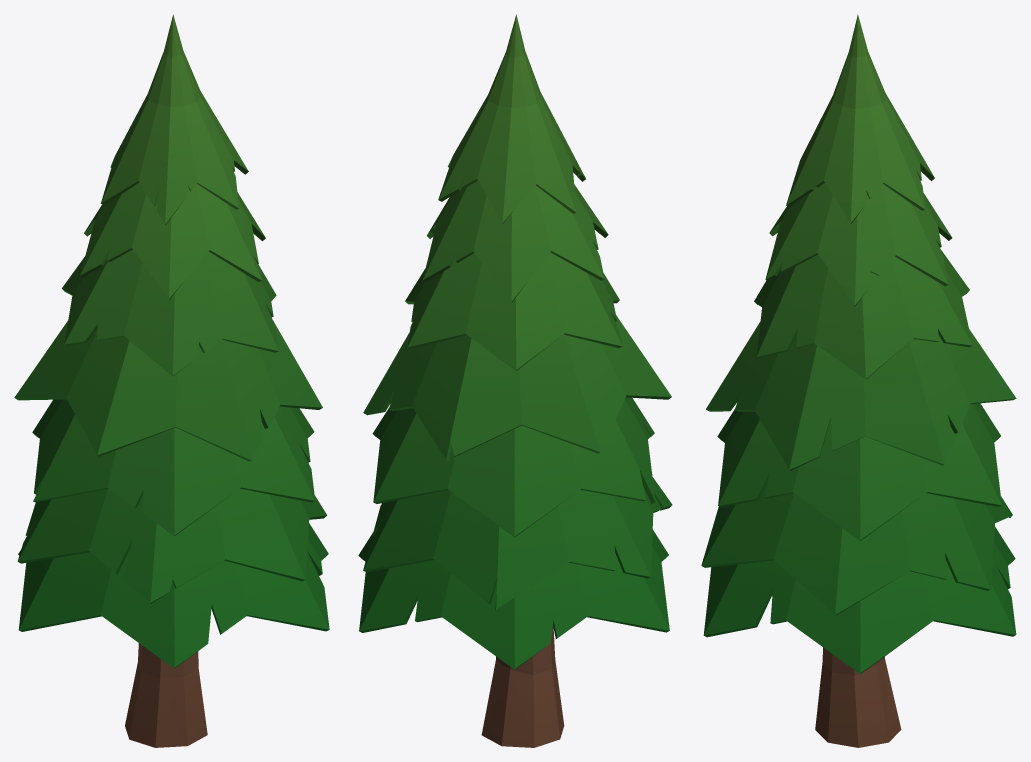
File: SM_Nature_Tree_07.fbx
The picture shows the model from 3 angles, left to right: view 1: azimuth 30°, elevation 25°; view 2: azimuth 150°, elevation 25°; view 3: azimuth 270°, elevation 25°; orthographic projection.
Visible parts, largest first — view 1: SM_Nature_Tree_07_LOD0; view 2: SM_Nature_Tree_07_LOD0; view 3: SM_Nature_Tree_07_LOD0.
Boxes of the visible parts, box(x1,y1,x2,y2) form: SM_Nature_Tree_07_LOD0: box(14, 14, 329, 747); SM_Nature_Tree_07_LOD0: box(358, 14, 672, 747); SM_Nature_Tree_07_LOD0: box(701, 14, 1016, 747).
Size of the model in its own units: 2.48 by 5.44 by 2.16.
